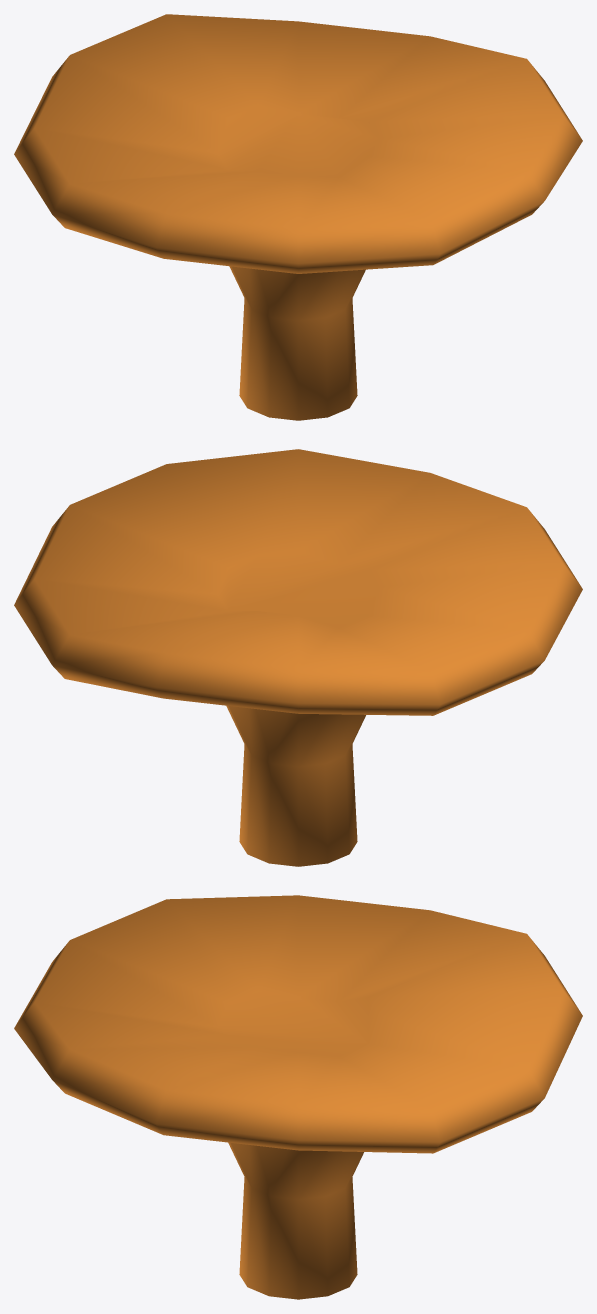
The model's file is Cantharellaceae_little.fbx.
3 renders of one model, top to bottom at view 1: azimuth 30°, elevation 25°; view 2: azimuth 150°, elevation 25°; view 3: azimuth 270°, elevation 25°, orthographic.
Parts seen in each view (by area): view 1: Cantharellaceae_little; view 2: Cantharellaceae_little; view 3: Cantharellaceae_little.
Part boxes in pixels (x1,y1,x2,y2): Cantharellaceae_little: [14, 14, 582, 420]; Cantharellaceae_little: [14, 449, 582, 866]; Cantharellaceae_little: [14, 895, 582, 1299].
Bounding box in the file's own units: 26 × 14.38 × 26.
